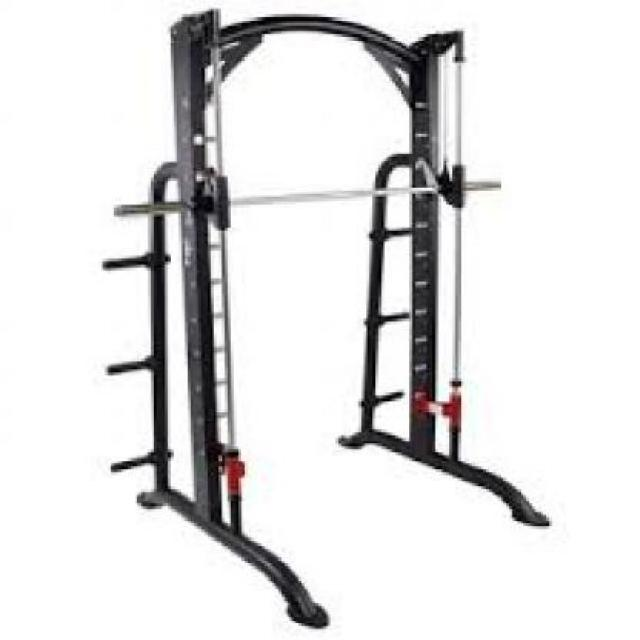smith machine: (105, 8, 557, 629)
